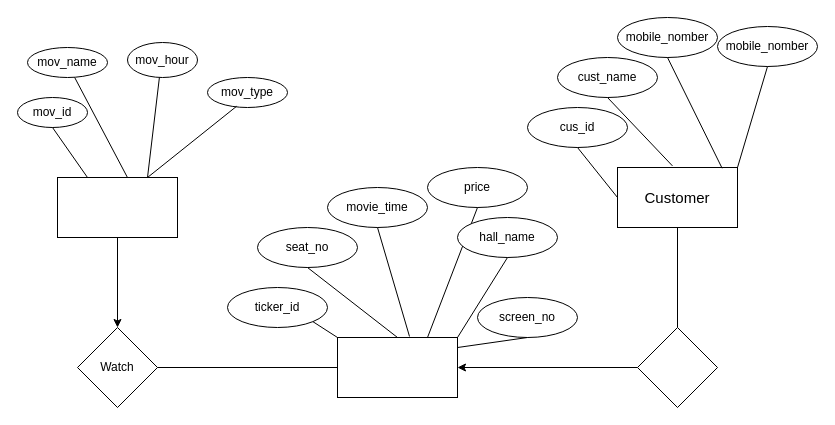
Image size: 835x425. Some labels were removed from this diagram. Here are the shapes that lost their labels. From the top down, the centre of each, then its label:
At [117,207]: "Movie".
At [397,367]: "Movie TIcket".
At [677,367]: "Booking".
